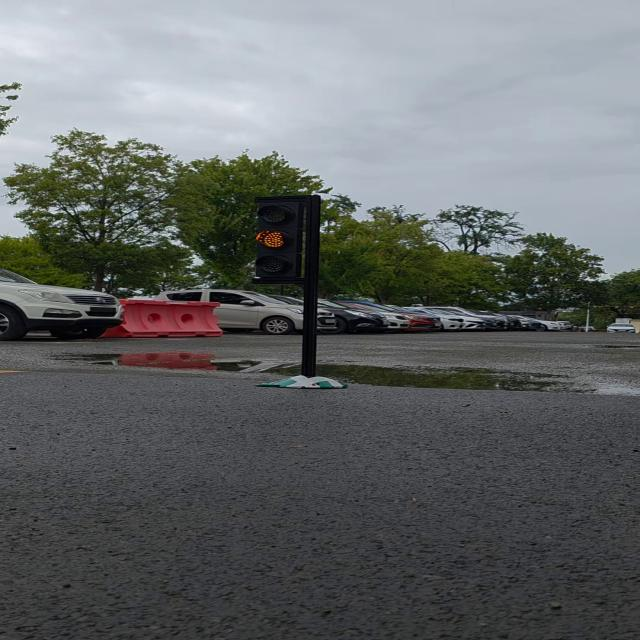yellow: (244, 191, 320, 287)
